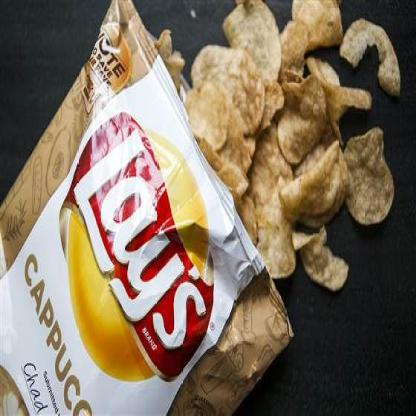potatochip: (0, 0, 297, 415)
